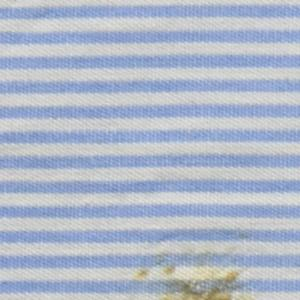Oil Stain: (131, 226, 256, 300)
